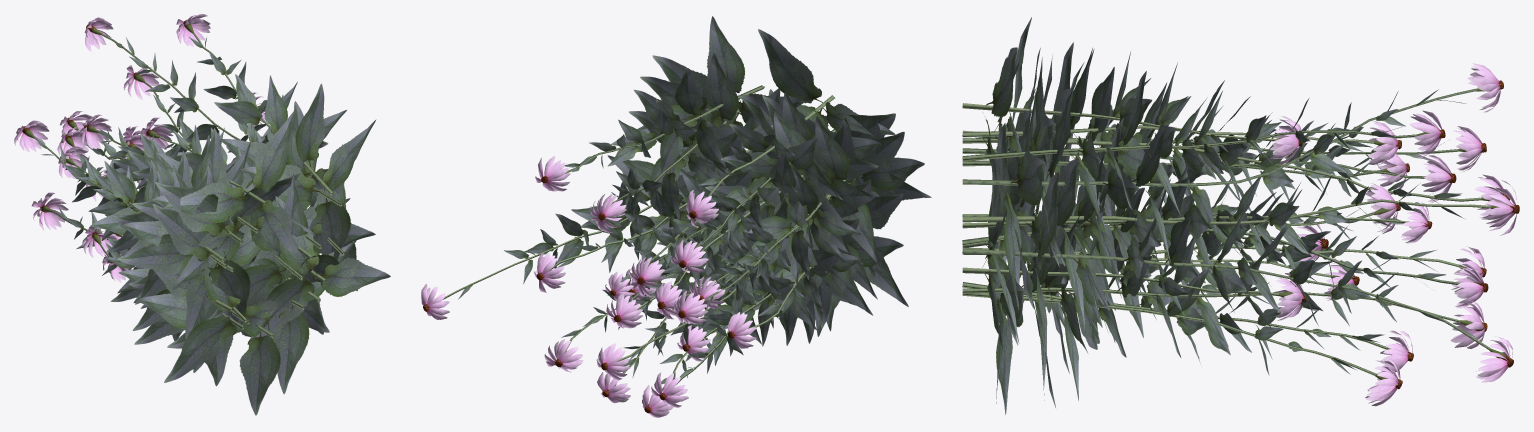
File: purple_echinacea.glb
The picture shows the model from 3 angles, left to right: view 1: azimuth 30°, elevation 25°; view 2: azimuth 150°, elevation 25°; view 3: azimuth 270°, elevation 25°; orthographic projection. The views are drawn at different scales.
Parts seen in each view (by area): view 1: echinacea_2; view 2: echinacea_2; view 3: echinacea_2.
Part boxes in pixels (bbox=[...]): echinacea_2: bbox=[14, 14, 390, 415]; echinacea_2: bbox=[421, 16, 931, 417]; echinacea_2: bbox=[962, 17, 1519, 414].
Size of the model in its own units: 0.00636 by 0.00579 by 0.00703.
3 materials, 3 textured.
